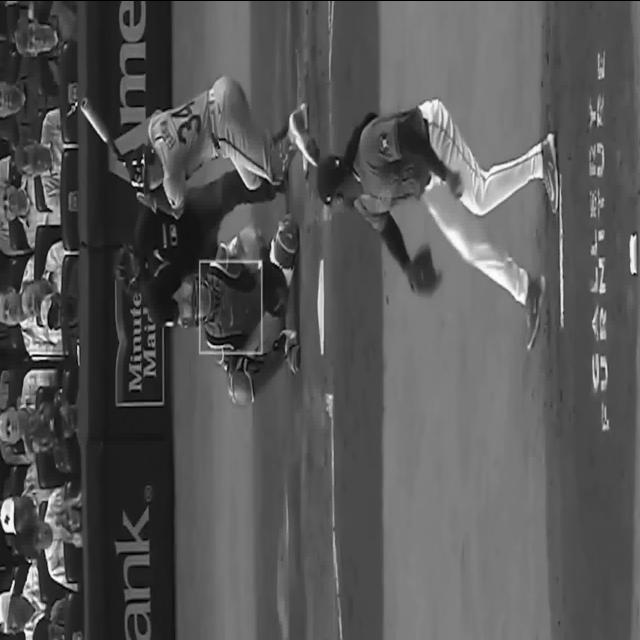baseball_glove: (406, 244, 441, 295), (262, 255, 289, 318)
bat: (80, 95, 126, 163)
shoe: (524, 271, 546, 349), (289, 109, 319, 164), (541, 131, 559, 213), (274, 329, 300, 373)
